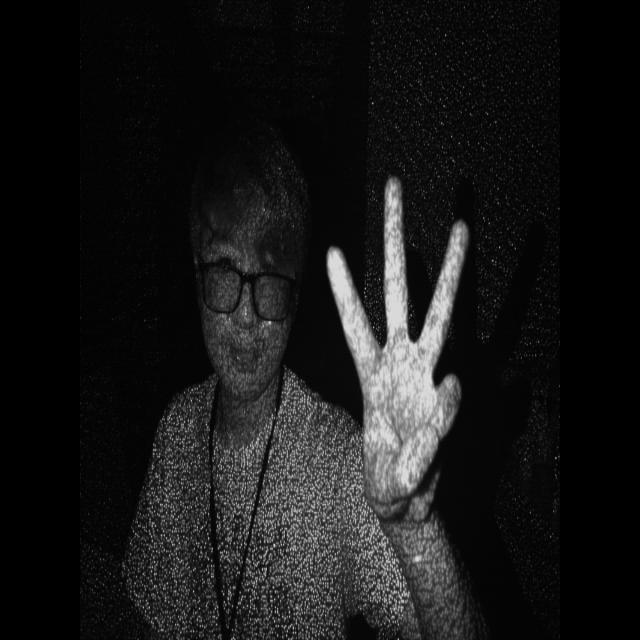W: (296, 146, 506, 534)
